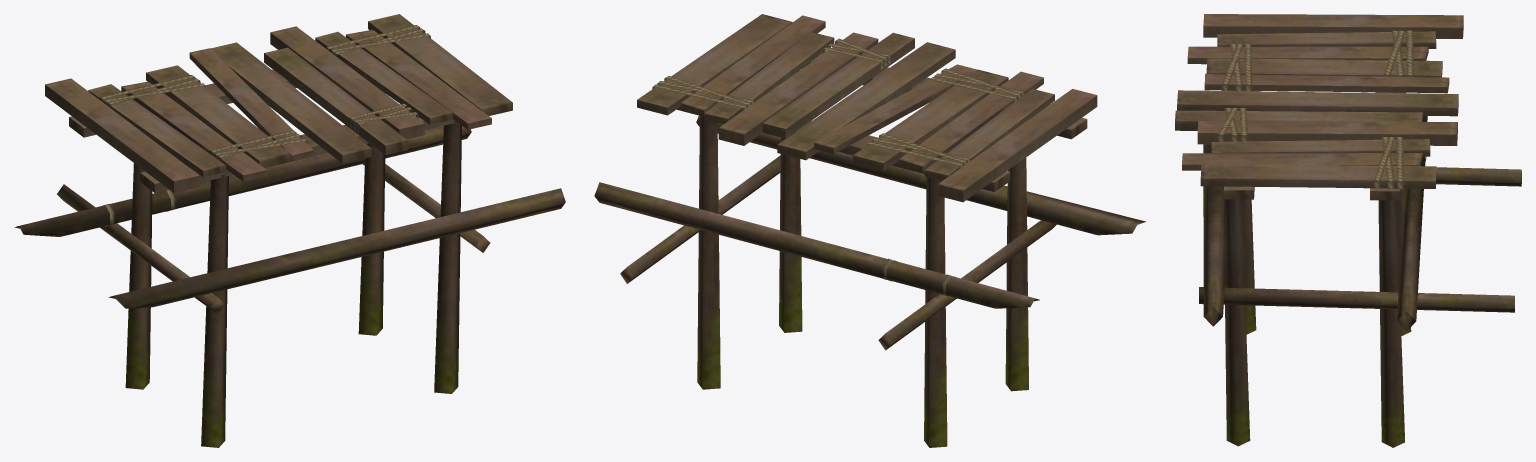
Rendered from m_wujian_044.FBX.
3 views of the same model, side by side, from view 1: azimuth 30°, elevation 25°; view 2: azimuth 150°, elevation 25°; view 3: azimuth 270°, elevation 25° (orthographic).
Parts seen in each view (by area): view 1: m_wujian_044; view 2: m_wujian_044; view 3: m_wujian_044.
Part boxes in pixels (x1,y1,x2,y2): m_wujian_044: (14,14,565,447); m_wujian_044: (594,14,1145,447); m_wujian_044: (1175,14,1521,447).
Bounding box in the file's own units: 246 × 156 × 168.
